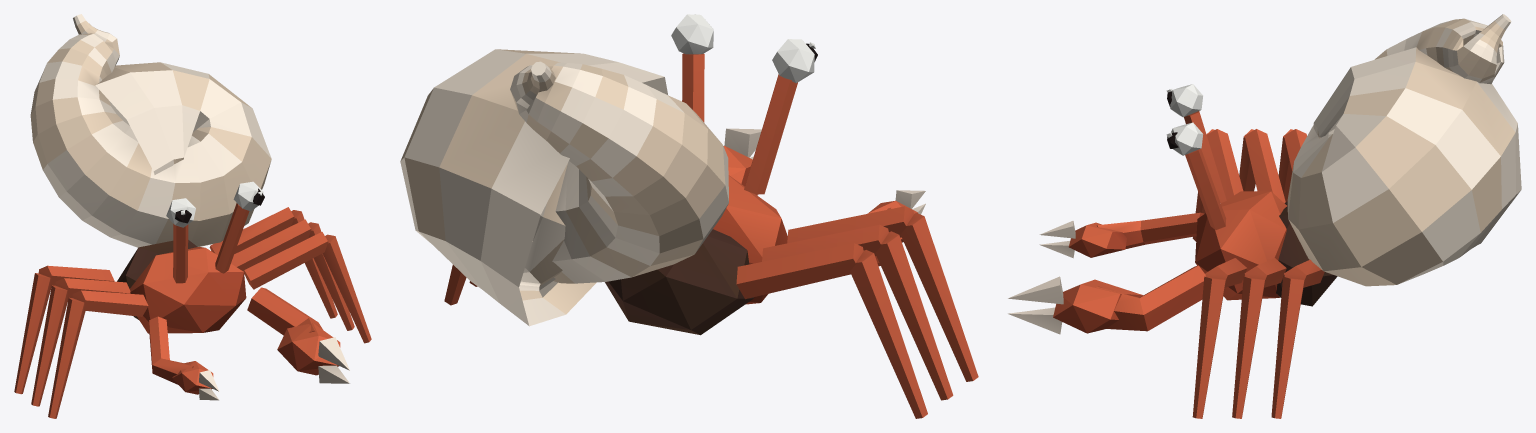
File: crab.glb
3 views of the same model, side by side, from view 1: azimuth 30°, elevation 25°; view 2: azimuth 150°, elevation 25°; view 3: azimuth 270°, elevation 25° (orthographic). The views are drawn at different scales.
Parts seen in each view (by area): view 1: base, legs_m, claw_m; view 2: base, legs_m, claw_m; view 3: base, legs_m, claw_m.
Boxes of the visible parts, left/top/right/bottom form: base: left=30, top=14, right=271, bottom=333; legs_m: left=14, top=207, right=371, bottom=418; claw_m: left=149, top=287, right=349, bottom=400; base: left=400, top=14, right=817, bottom=335; legs_m: left=444, top=206, right=978, bottom=418; claw_m: left=723, top=128, right=925, bottom=266; base: left=1166, top=14, right=1521, bottom=306; legs_m: left=1192, top=129, right=1324, bottom=418; claw_m: left=1008, top=212, right=1205, bottom=334.
Bounding box in the file's own units: 0.1431 × 0.1149 × 0.1698.
